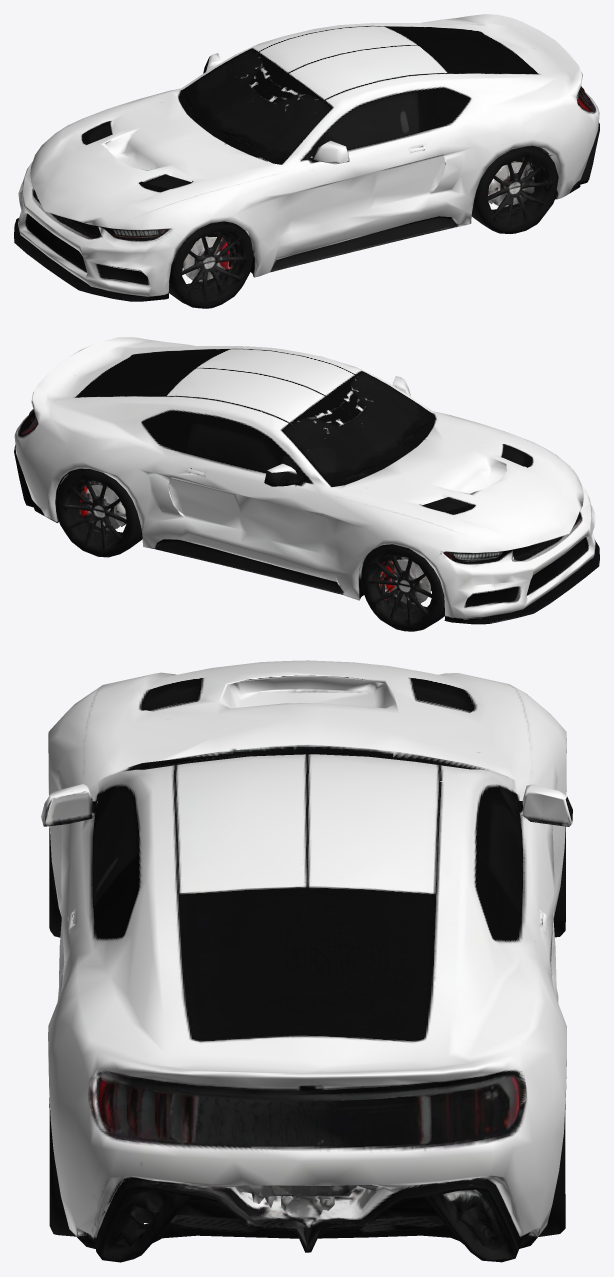
Rendered from kw_white.glb.
The picture shows the model from 3 angles, top to bottom: view 1: azimuth 30°, elevation 25°; view 2: azimuth 150°, elevation 25°; view 3: azimuth 270°, elevation 25°; orthographic projection. The views are drawn at different scales.
Parts seen in each view (by area): view 1: frame; view 2: frame; view 3: frame.
Boxes of the visible parts, <box> form: frame: <box>14,14,599,308</box>; frame: <box>14,337,599,631</box>; frame: <box>41,660,572,1262</box>.
Bounding box in the file's own units: 5.21 × 1.55 × 2.3.
Materials: 1 (1 with a texture image).
